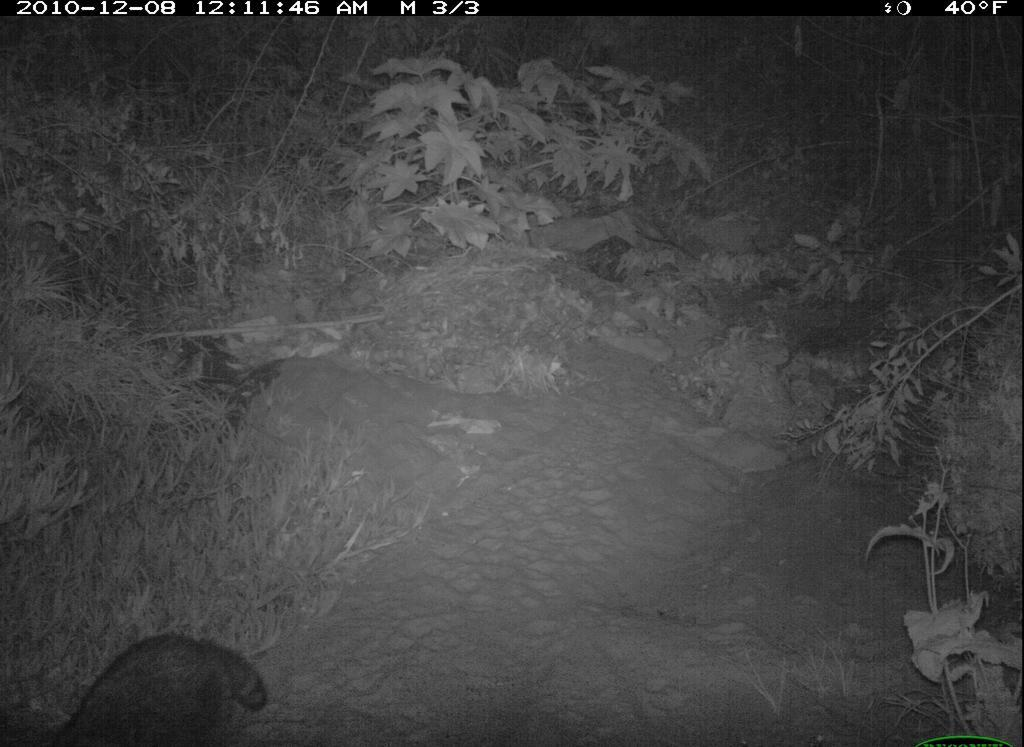raccoon: (29, 624, 276, 743)
